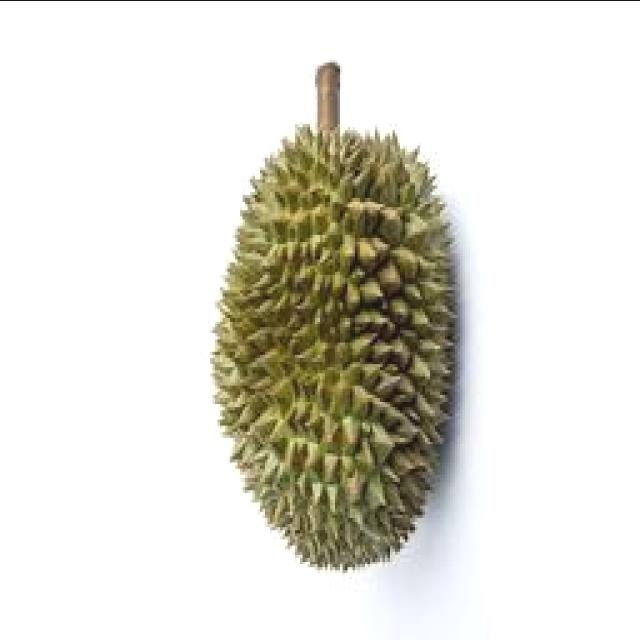agrume: (188, 64, 488, 591)
